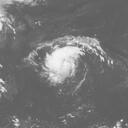cyclone: (25, 35, 103, 86)
